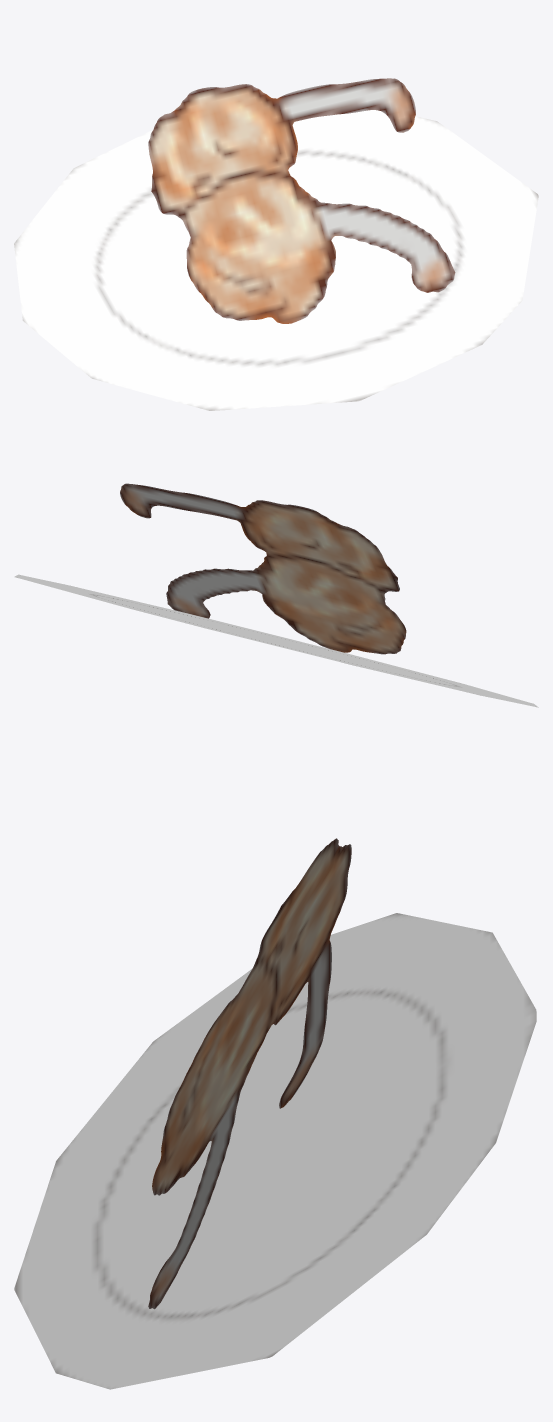
Rendered from giftgoods057.fbx.
The picture shows the model from 3 angles, top to bottom: view 1: azimuth 30°, elevation 25°; view 2: azimuth 150°, elevation 25°; view 3: azimuth 270°, elevation 25°; orthographic projection. The views are drawn at different scales.
Parts seen in each view (by area): view 1: giftgoods057; view 2: giftgoods057; view 3: giftgoods057.
Boxes of the visible parts, <box> form: giftgoods057: <box>14,78,538,410</box>; giftgoods057: <box>14,483,538,707</box>; giftgoods057: <box>14,838,536,1389</box>.
Bounding box in the file's own units: 0.469 × 0.2311 × 0.2584.
